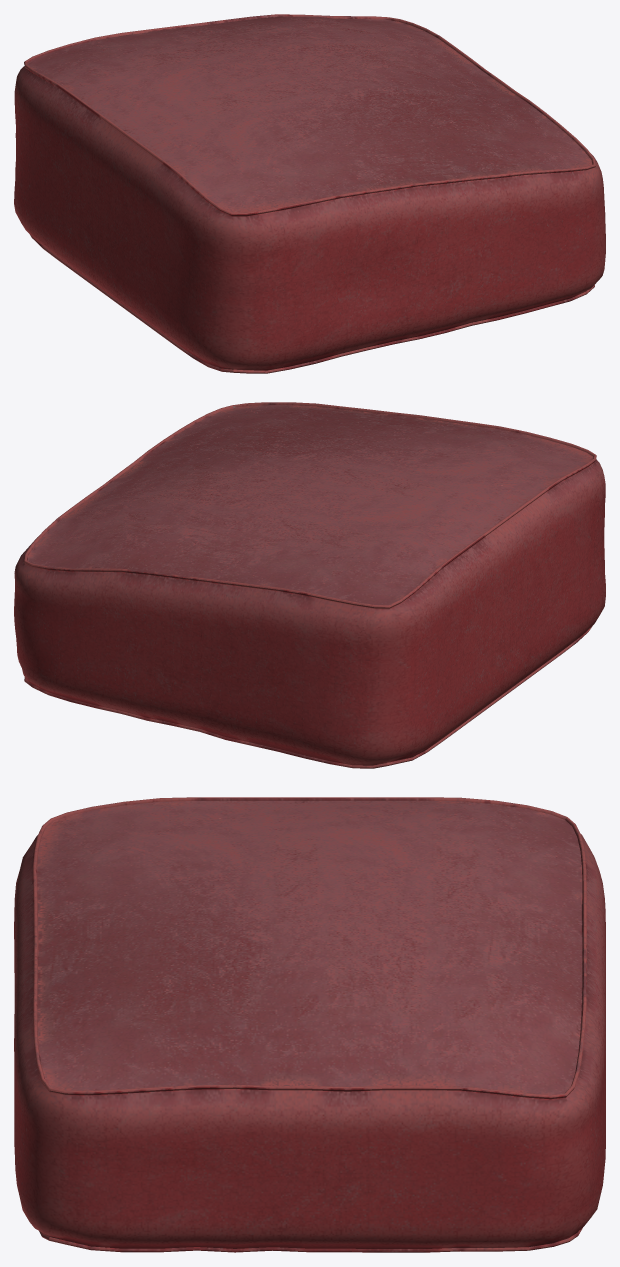
File: baidian.fbx
The picture shows the model from 3 angles, top to bottom: view 1: azimuth 30°, elevation 25°; view 2: azimuth 150°, elevation 25°; view 3: azimuth 270°, elevation 25°; orthographic projection. The views are drawn at different scales.
Visible parts, largest first — view 1: pCube1; view 2: pCube1; view 3: pCube1.
Part boxes in pixels (x1,y1,x2,y2): pCube1: (14,14,605,373); pCube1: (14,402,605,768); pCube1: (14,797,605,1252).
Size of the model in its own units: 4.49 by 1.94 by 4.49.
